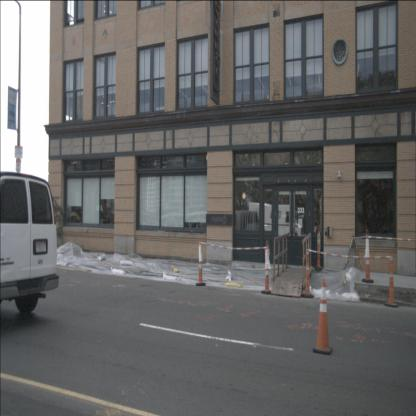movable_object-trafficcone: (312, 278, 332, 355), (384, 254, 399, 307), (301, 244, 314, 298), (362, 229, 373, 283), (261, 240, 272, 294), (196, 236, 206, 286), (314, 224, 324, 272)
vehicle-car: (0, 171, 60, 314)
vehicle-truck: (248, 201, 302, 250)
